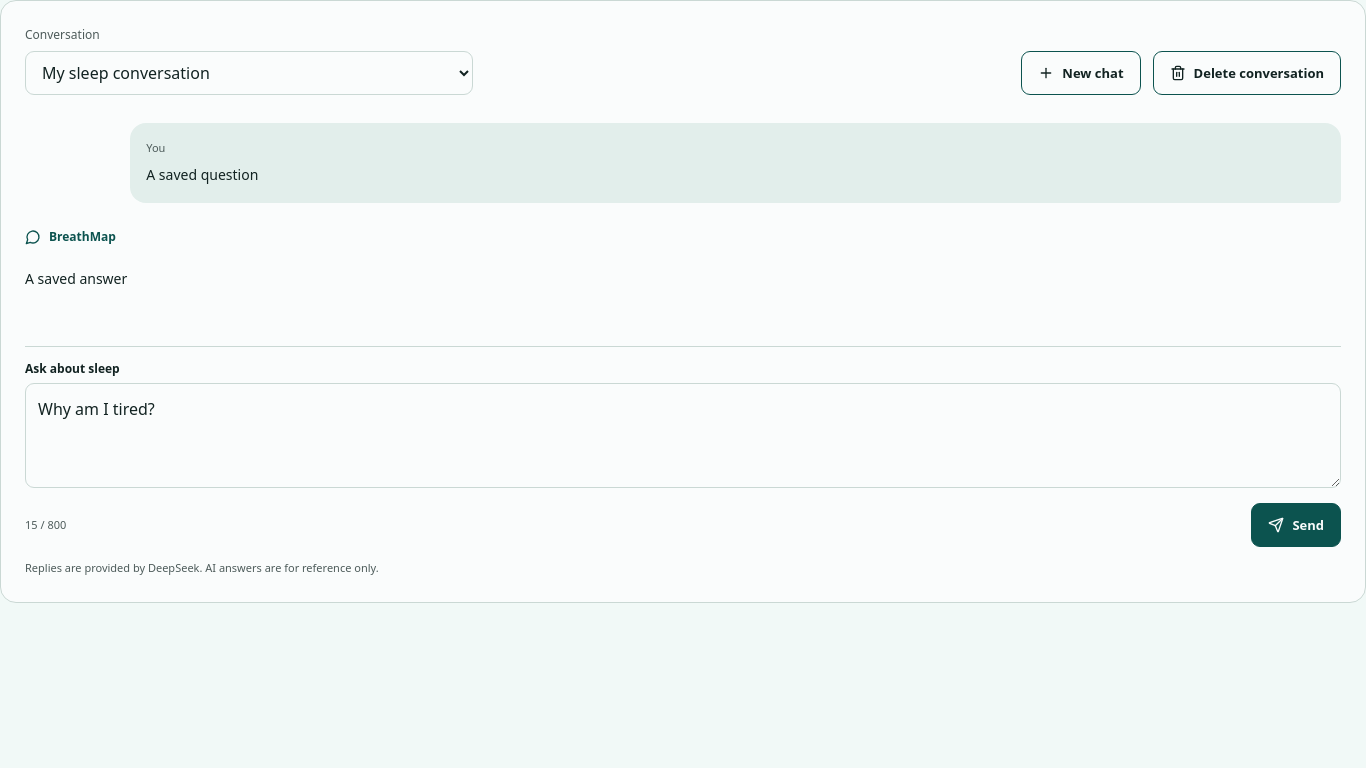
Test case: General sleep conversation › deletes only after confirmation, clears the conversation draft and starts a new chat
Click the button "Delete conversation": point(1247, 73) x1=1153 y1=51 x2=1341 y2=95
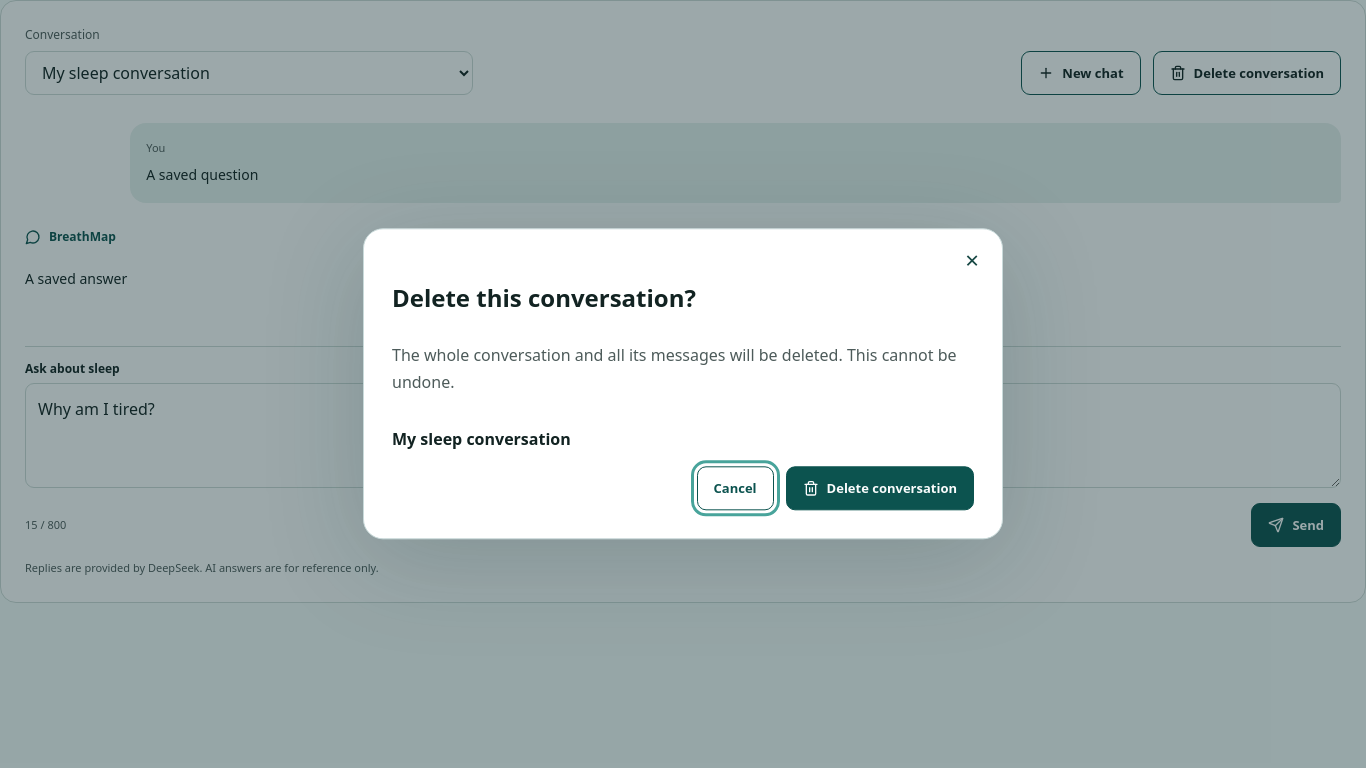
Click the button "Delete conversation": point(880, 489) x1=786 y1=467 x2=974 y2=511
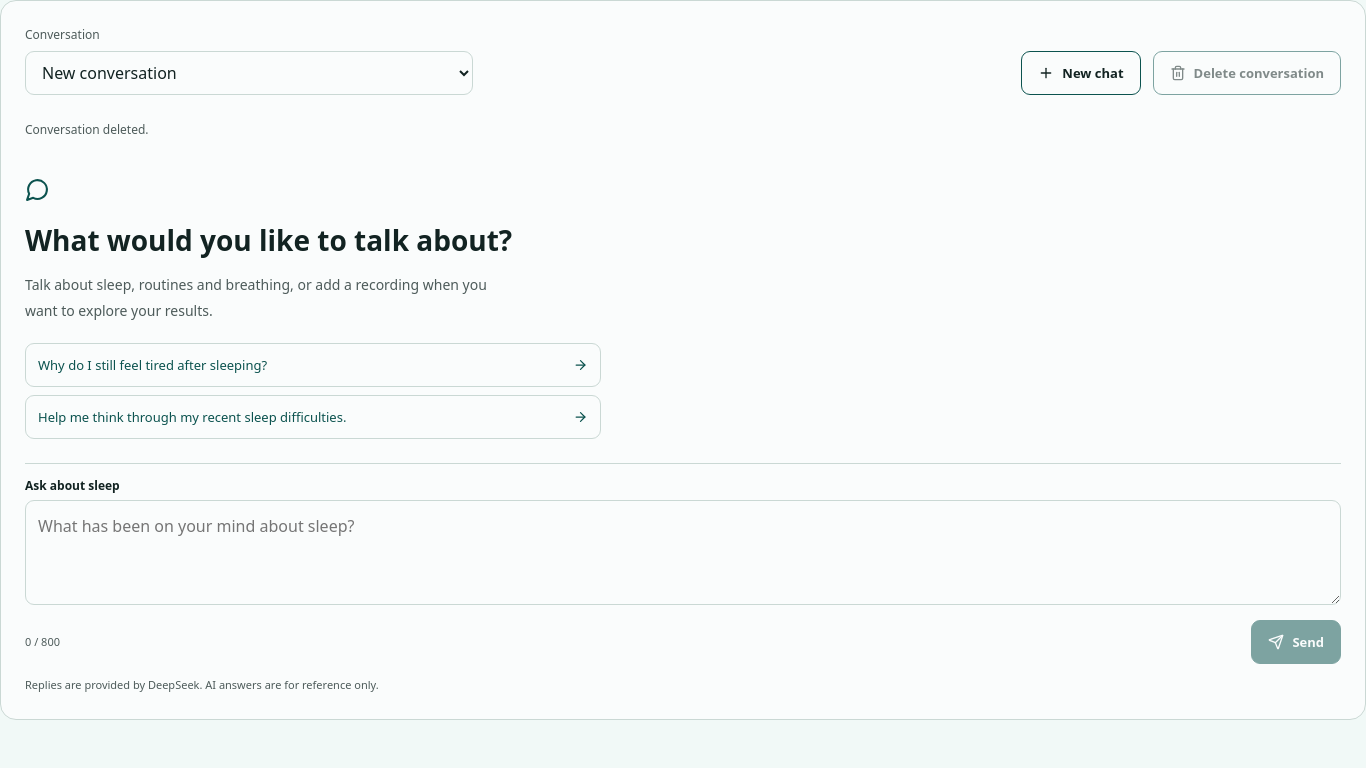
Expected: the text "A saved answer" is gone
Expected: the text "Conversation deleted." is shown, x1=25 y1=121 x2=148 y2=138
